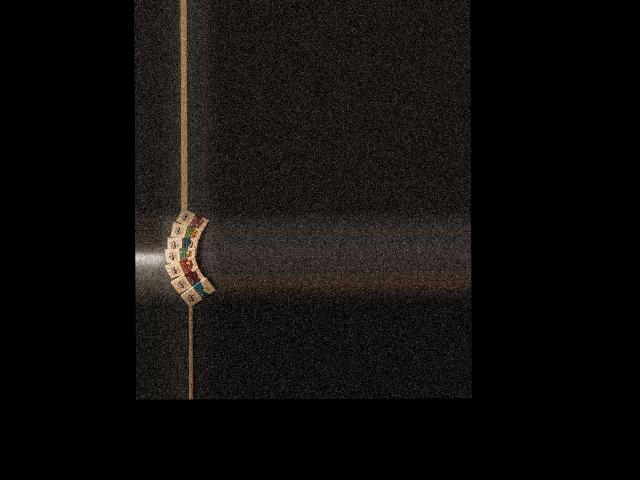chocolate: (179, 277, 218, 305)
